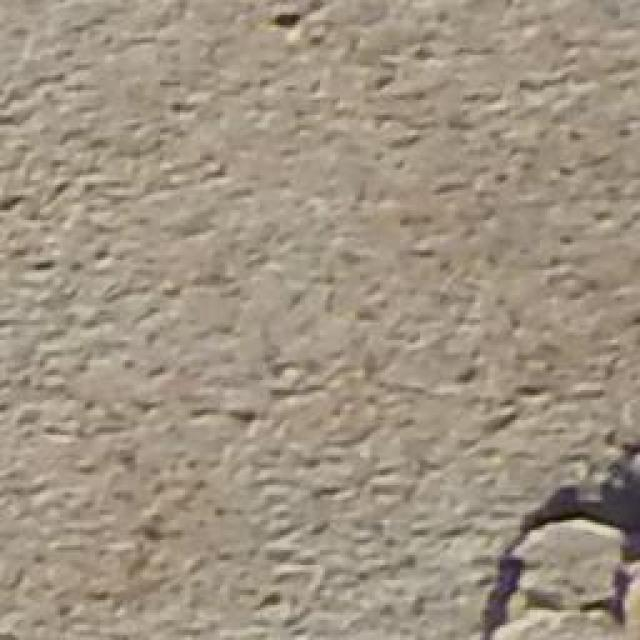concrete-crack: (474, 433, 640, 640)
